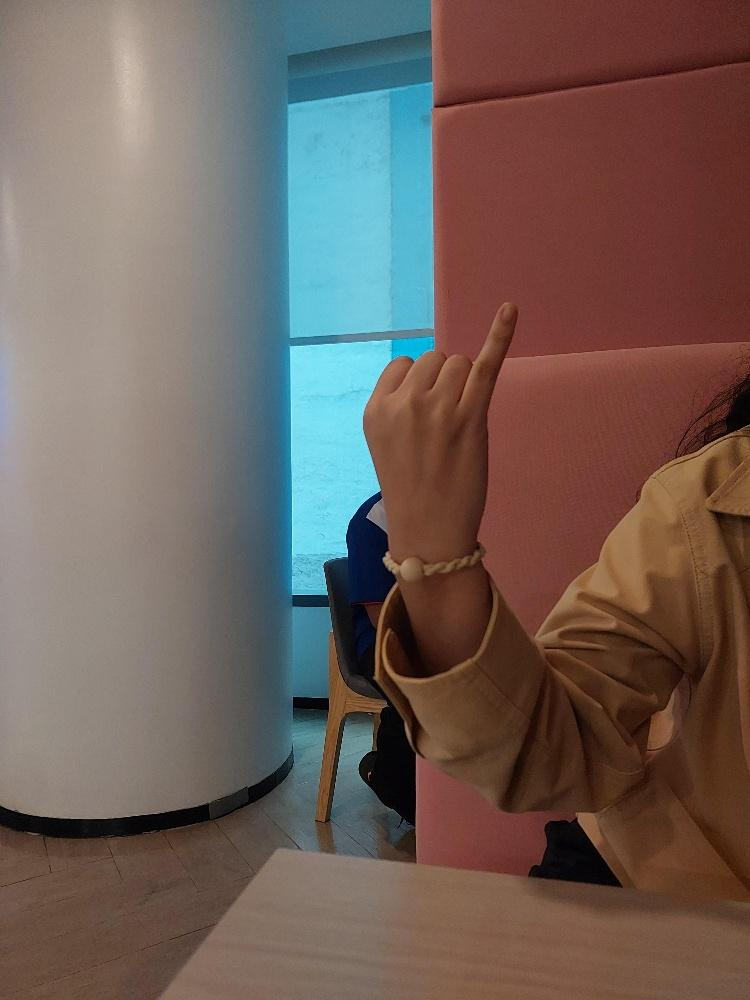j: (355, 290, 524, 587)
